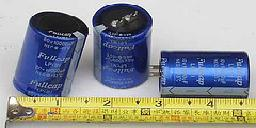Electrolytic-Capacitor: (13, 7, 90, 97), (146, 49, 252, 99), (92, 2, 151, 90)
